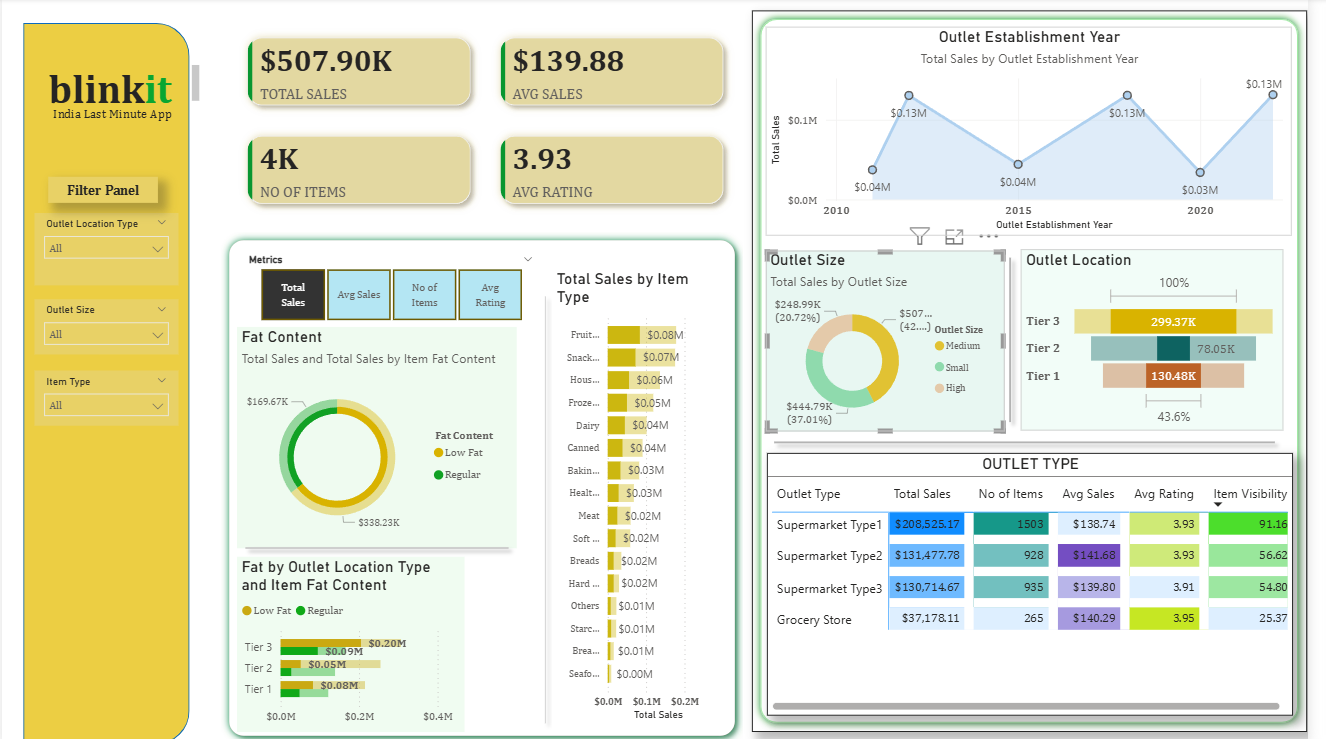

The dashboard page shown, as its layout file describes it:
{"tool":"powerbi","page":{"name":"Page 1","canvas":[1400,800],"ordinal":0},"visuals":[{"type":"shape","box":[22.8,26.8,178.3,773.5],"z":0},{"type":"textbox","box":[22.5,67.5,193.6,54],"z":1000},{"type":"textbox","box":[49.5,109.6,139.6,67.5],"z":2000},{"type":"cardVisual","fields":{"Data":["Blinkit Grocery Data.Total Sales","Blinkit Grocery Data.Avg Sales","Blinkit Grocery Data.No of Items","Blinkit Grocery Data.Avg Rating"]},"box":[234.6,13.4,569.7,237.3],"z":3000},{"type":"shape","box":[234.6,250.7,560.3,549.6],"z":4000},{"type":"donutChart","title":" Fat Content","fields":{"Y":["Blinkit Grocery Data.Total Sales","Blinkit Grocery Data.Total Sales"],"Category":["Blinkit Grocery Data.Item Fat Content"]},"box":[252,352.5,300.3,237.3],"z":5000},{"type":"slicer","fields":{"Values":["Metrics.Metrics"]},"box":[252,269.4,329.8,83.1],"z":6000},{"type":"clusteredBarChart","title":"Fat by Outlet Location Type and Item Fat Content","fields":{"Y":["Blinkit Grocery Data.Total Sales"],"Category":["Blinkit Grocery Data.Outlet Location Type"],"Series":["Blinkit Grocery Data.Item Fat Content"]},"box":[252,599.2,244,187.7],"z":7000},{"type":"shape","box":[252,542.9,300.3,93.8],"z":8000},{"type":"shape","box":[573.7,311,16.1,475.9],"z":9000},{"type":"barChart","fields":{"Y":["Blinkit Grocery Data.Total Sales"],"Category":["Blinkit Grocery Data.Item Type"]},"box":[589.8,290.9,189,489.3],"z":10000},{"type":"shape","box":[804.3,13.4,595.2,773.5],"z":11000},{"type":"funnel","title":" Outlet Location","fields":{"Category":["Blinkit Grocery Data.Outlet Location Type"],"Y":["Sum(Blinkit Grocery Data.Sales)"]},"box":[1092.5,269.4,281.5,194.4],"z":12000},{"type":"donutChart","title":"Outlet Size","fields":{"Category":["Blinkit Grocery Data.Outlet Size"],"Y":["Blinkit Grocery Data.Total Sales"]},"box":[819,270.8,256,194.4],"z":13000},{"type":"lineChart","title":" Outlet Establishment Year","fields":{"Y":["Blinkit Grocery Data.Total Sales"],"Category":["Blinkit Grocery Data.Outlet Establishment Year"]},"box":[819,30.8,564.3,223.9],"z":14000},{"type":"pivotTable","title":"OUTLET TYPE","fields":{"Rows":["Blinkit Grocery Data.Outlet Type"],"Values":["Blinkit Grocery Data.Total Sales","Blinkit Grocery Data.No of Items","Blinkit Grocery Data.Avg Sales","Blinkit Grocery Data.Avg Rating","Sum(Blinkit Grocery Data.Item Visibility)"]},"box":[820.4,487.9,564.3,281.5],"z":15000},{"type":"shape","box":[1060.3,269.4,41.6,194.4],"z":16000},{"type":"shape","box":[819,453.1,555,46.9],"z":17000},{"type":"slicer","fields":{"Values":["Blinkit Grocery Data.Outlet Location Type"]},"box":[34.9,230.6,154.2,77.7],"z":17001},{"type":"slicer","fields":{"Values":["Blinkit Grocery Data.Outlet Size"]},"box":[34.9,323.1,154.2,59],"z":17002},{"type":"slicer","fields":{"Values":["Blinkit Grocery Data.Item Type"]},"box":[34.9,399.5,154.2,59],"z":17003},{"type":"textbox","box":[49.6,191.7,118,28.2],"z":17004}]}

Visuals, with their boxes in screenshot pixels (x1, y1, x2, y2), scaled from the page's 1400x800 canvas onto the 1326x739 screenshot:
shape: pyautogui.locateOnScreen(22, 25, 190, 738)
textbox: pyautogui.locateOnScreen(21, 62, 205, 112)
textbox: pyautogui.locateOnScreen(47, 101, 179, 164)
cardVisual - Blinkit Grocery Data.Total Sales x Blinkit Grocery Data.Avg Sales: pyautogui.locateOnScreen(222, 12, 762, 232)
shape: pyautogui.locateOnScreen(222, 232, 753, 738)
" Fat Content" donutChart: pyautogui.locateOnScreen(239, 326, 523, 545)
slicer - Metrics.Metrics: pyautogui.locateOnScreen(239, 249, 551, 326)
"Fat by Outlet Location Type and Item Fat Content" clusteredBarChart: pyautogui.locateOnScreen(239, 554, 470, 727)
shape: pyautogui.locateOnScreen(239, 502, 523, 588)
shape: pyautogui.locateOnScreen(543, 287, 559, 727)
barChart - Blinkit Grocery Data.Total Sales x Blinkit Grocery Data.Item Type: pyautogui.locateOnScreen(559, 269, 738, 721)
shape: pyautogui.locateOnScreen(762, 12, 1325, 727)
" Outlet Location" funnel: pyautogui.locateOnScreen(1035, 249, 1301, 428)
"Outlet Size" donutChart: pyautogui.locateOnScreen(776, 250, 1018, 430)
" Outlet Establishment Year" lineChart: pyautogui.locateOnScreen(776, 28, 1310, 235)
"OUTLET TYPE" pivotTable: pyautogui.locateOnScreen(777, 451, 1312, 711)
shape: pyautogui.locateOnScreen(1004, 249, 1044, 428)
shape: pyautogui.locateOnScreen(776, 419, 1301, 462)
slicer - Blinkit Grocery Data.Outlet Location Type: pyautogui.locateOnScreen(33, 213, 179, 285)
slicer - Blinkit Grocery Data.Outlet Size: pyautogui.locateOnScreen(33, 298, 179, 353)
slicer - Blinkit Grocery Data.Item Type: pyautogui.locateOnScreen(33, 369, 179, 424)
textbox: pyautogui.locateOnScreen(47, 177, 159, 203)
